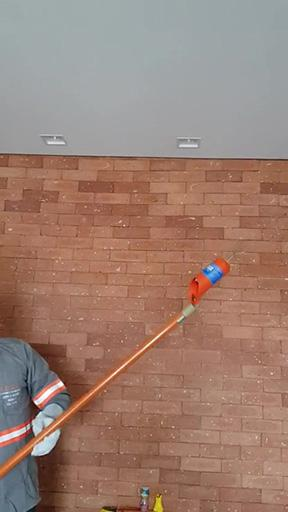Detector_Tensao_Contato: (187, 246, 245, 307)
Vara_Manobra: (1, 307, 194, 475)
